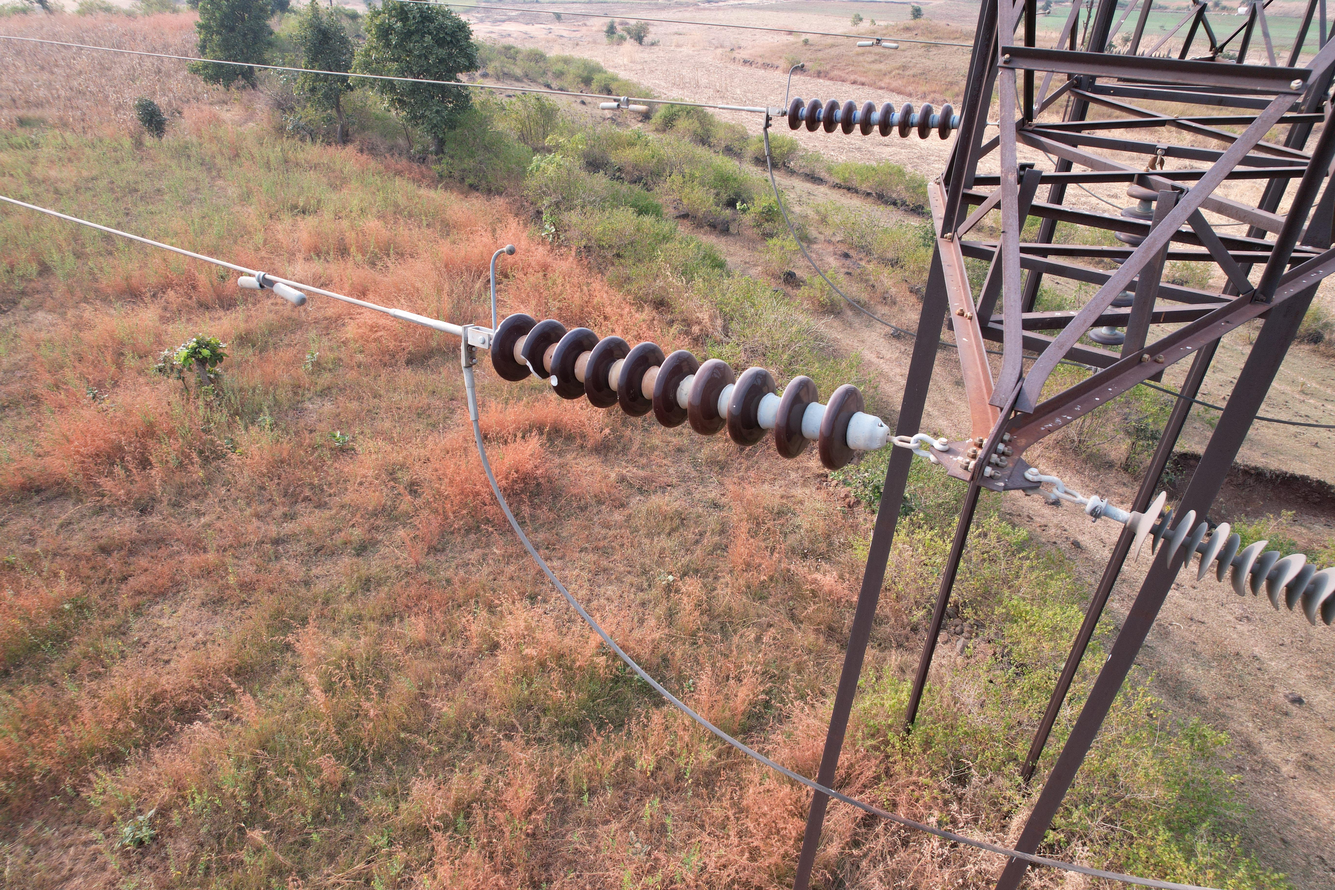broken_insulator: (513, 318, 544, 387), (544, 343, 570, 406)
